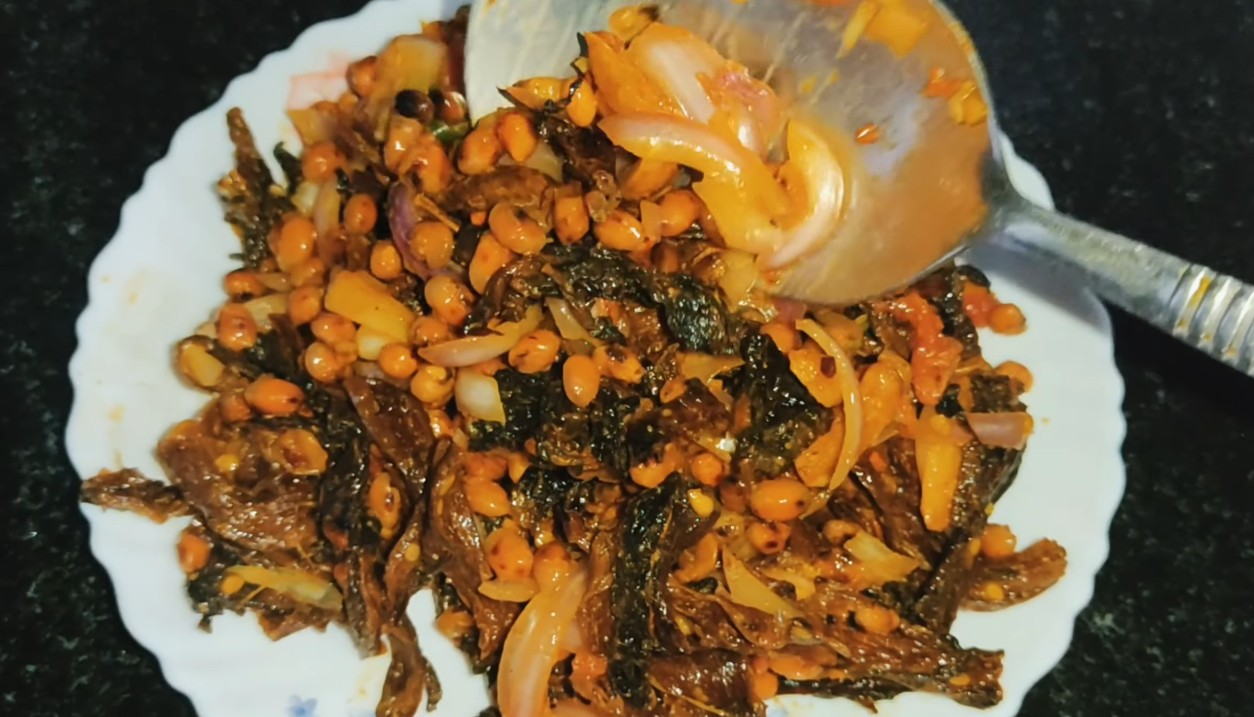gundruk: (220, 78, 947, 685)
